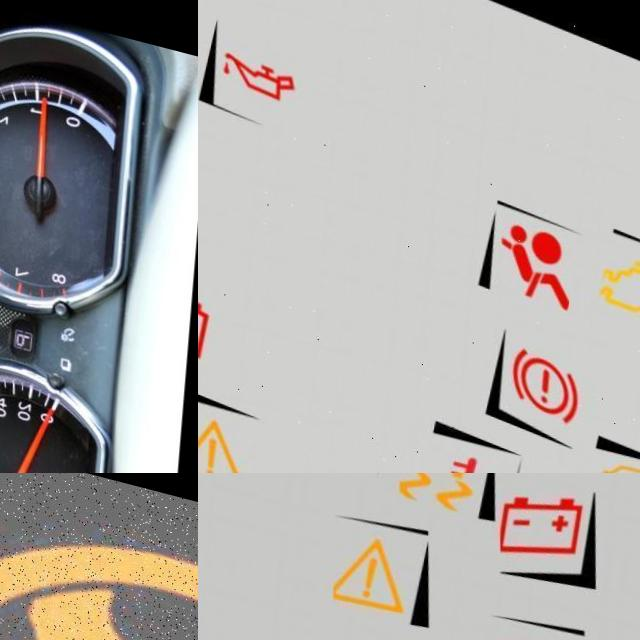Electronic Power Steering: (0, 473, 198, 640)
